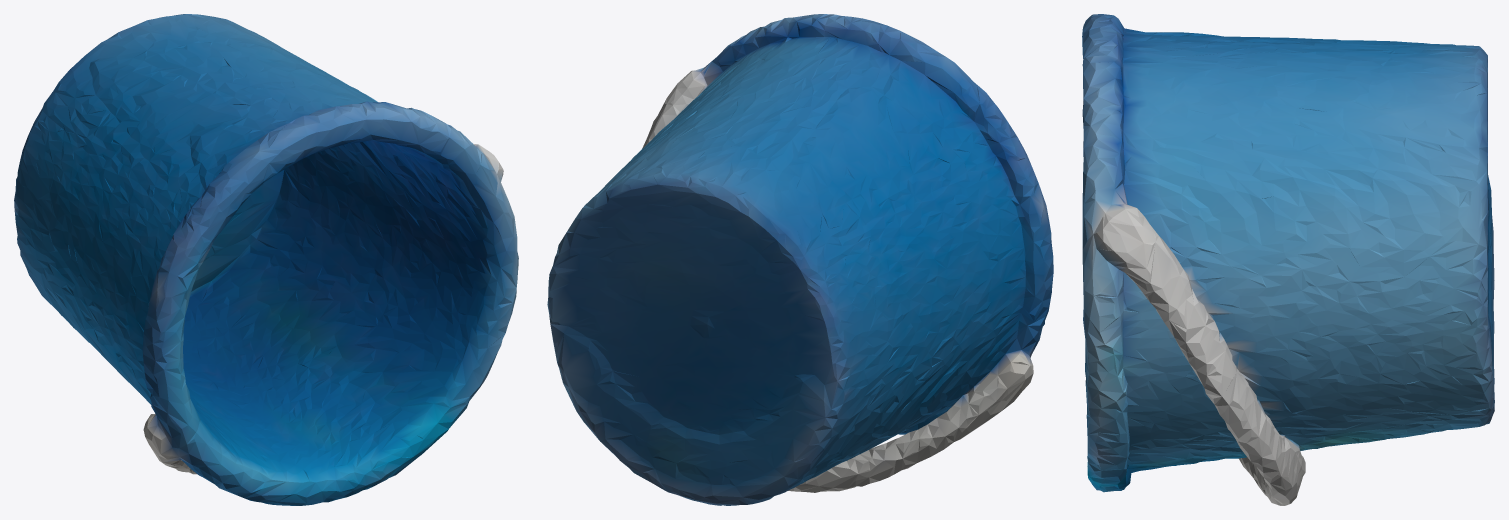
The model's file is bucket_1.glb.
3 views of the same model, side by side, from view 1: azimuth 30°, elevation 25°; view 2: azimuth 150°, elevation 25°; view 3: azimuth 270°, elevation 25° (orthographic). The views are drawn at different scales.
Parts seen in each view (by area): view 1: geometry_0; view 2: geometry_0; view 3: geometry_0.
Boxes of the visible parts, x1,y1,x2,y2 form: geometry_0: (14, 14, 518, 505); geometry_0: (547, 14, 1053, 505); geometry_0: (1082, 14, 1494, 505).
Size of the model in its own units: 0.9728 by 1 by 0.8316.
